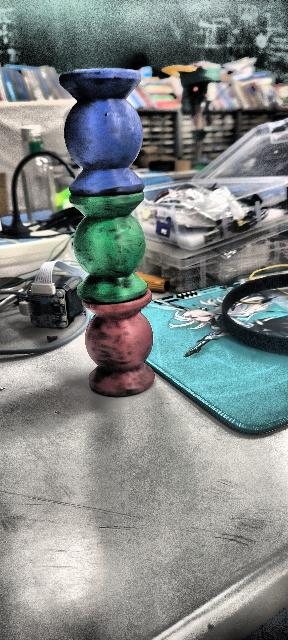blue: (59, 68, 145, 196)
green: (67, 193, 150, 302)
red: (74, 287, 157, 395)
